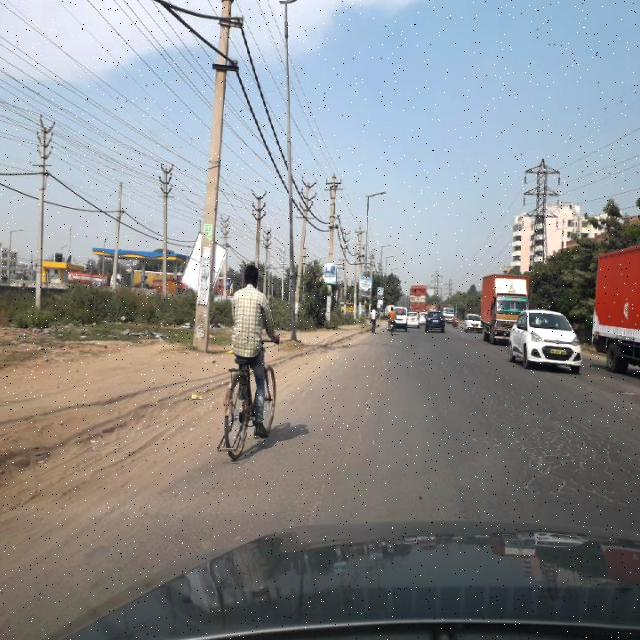D00: (311, 433, 357, 515), (357, 349, 402, 431)
D20: (486, 400, 623, 501)
